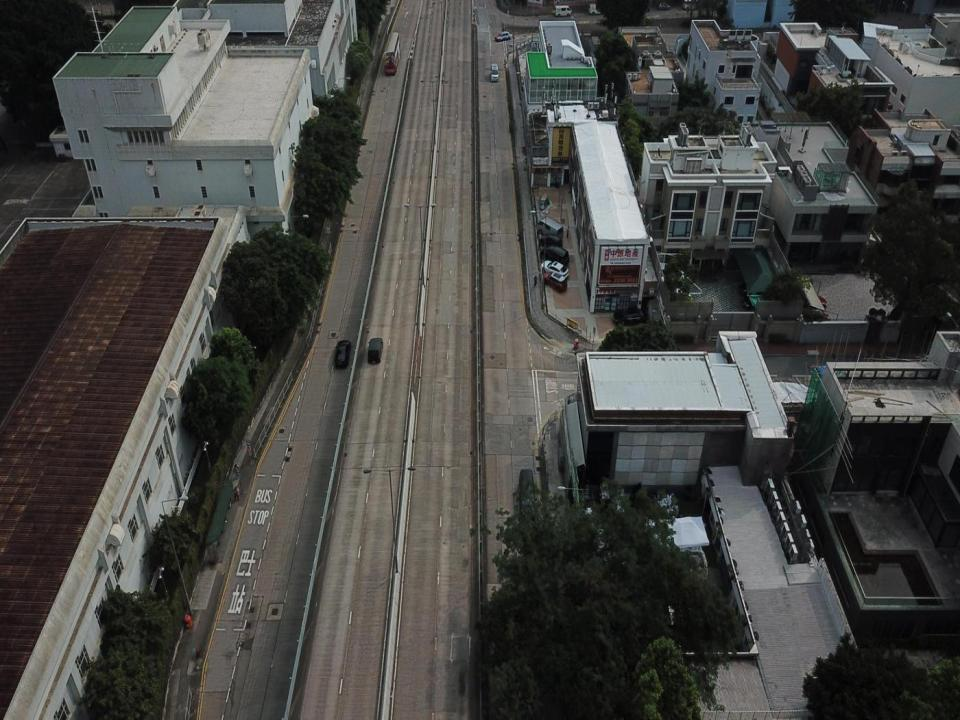bus: (384, 31, 400, 75)
car: (613, 308, 646, 327), (542, 270, 568, 292), (334, 340, 352, 369), (542, 260, 569, 279), (536, 231, 560, 248), (368, 337, 384, 362), (496, 30, 512, 42)
van: (535, 214, 564, 238), (543, 244, 569, 263), (555, 3, 572, 17), (491, 62, 498, 81)
